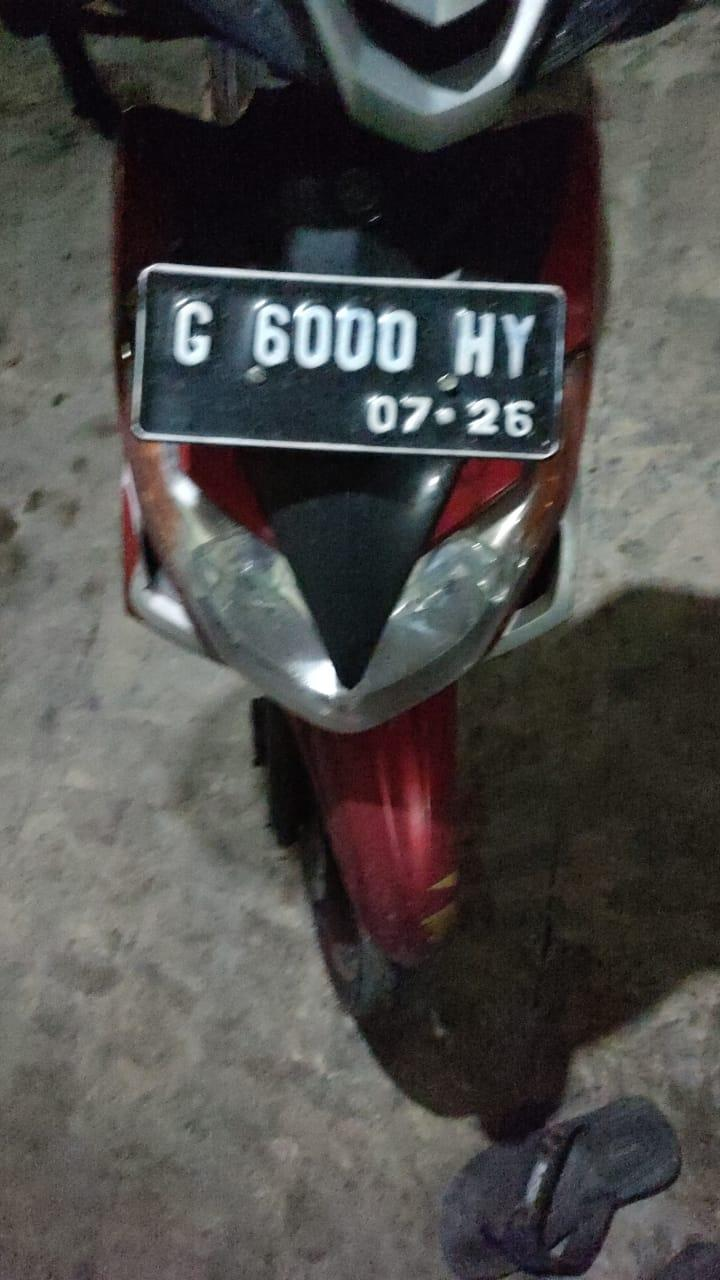plat: (130, 262, 568, 460)
